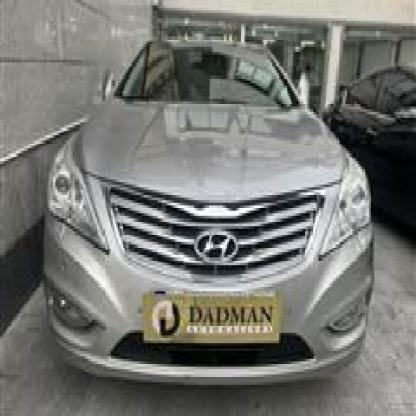Car: (57, 23, 378, 398), (312, 60, 416, 268)
